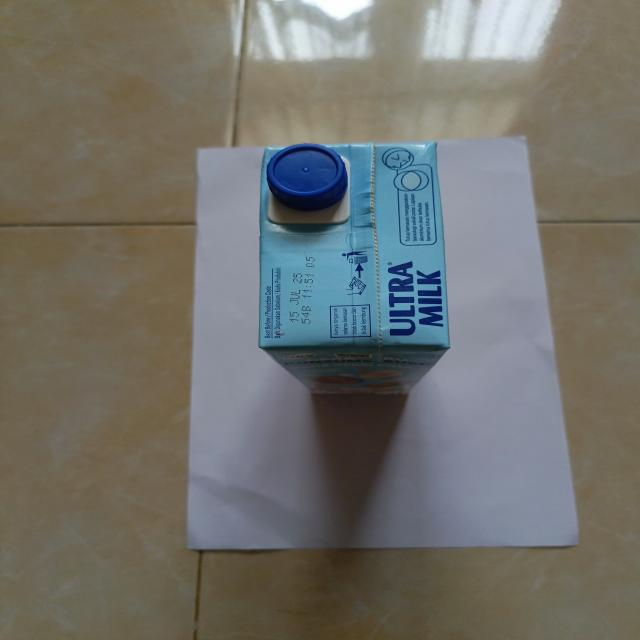indomie-mie-kocok-bandung: (252, 139, 452, 397)
